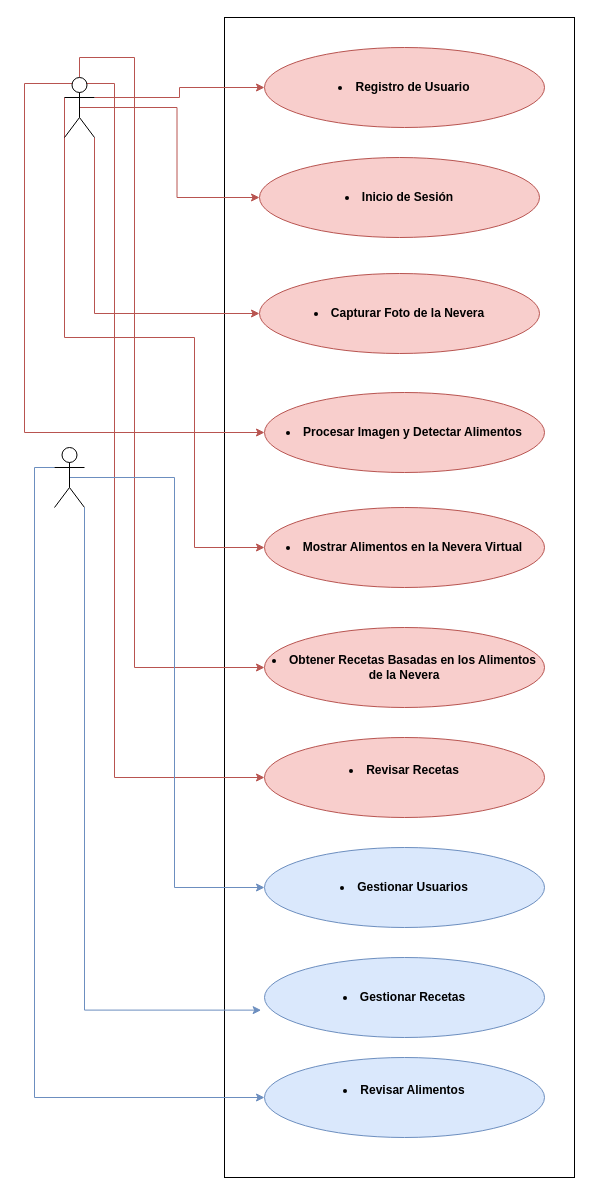
This 592x1195 diagram has some shape labels left out. The centre of each missing label's shape, as x and y in pixels:
"Adminstrador" belongs at pixel 69 477.
"Usuario" belongs at pixel 79 107.
